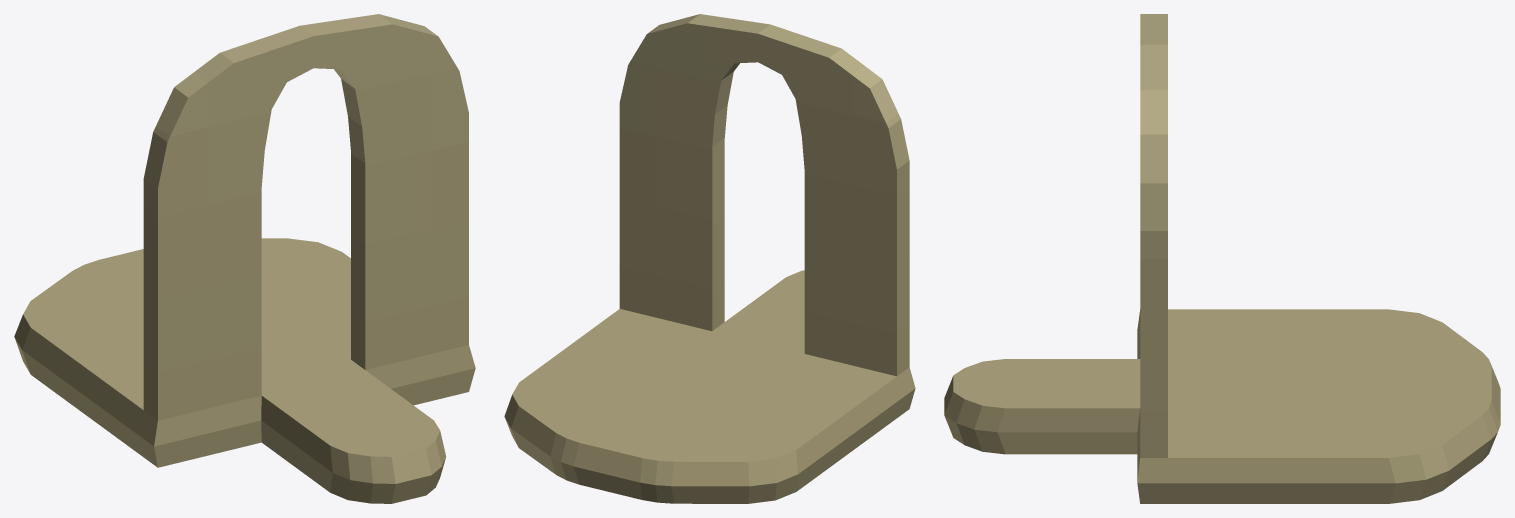
The model's file is HCBookend.fbx.
3 views of the same model, side by side, from view 1: azimuth 30°, elevation 25°; view 2: azimuth 150°, elevation 25°; view 3: azimuth 270°, elevation 25° (orthographic). The views are drawn at different scales.
Visible parts, largest first — view 1: Cube.232; view 2: Cube.232; view 3: Cube.232.
Part boxes in pixels (x1=…): Cube.232: x1=14, y1=14, x2=475, y2=503; Cube.232: x1=504, y1=14, x2=915, y2=503; Cube.232: x1=944, y1=14, x2=1500, y2=503.
Size of the model in its own units: 0.1034 by 0.1209 by 0.1584.
